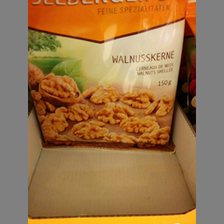nuts: (28, 1, 187, 153)
